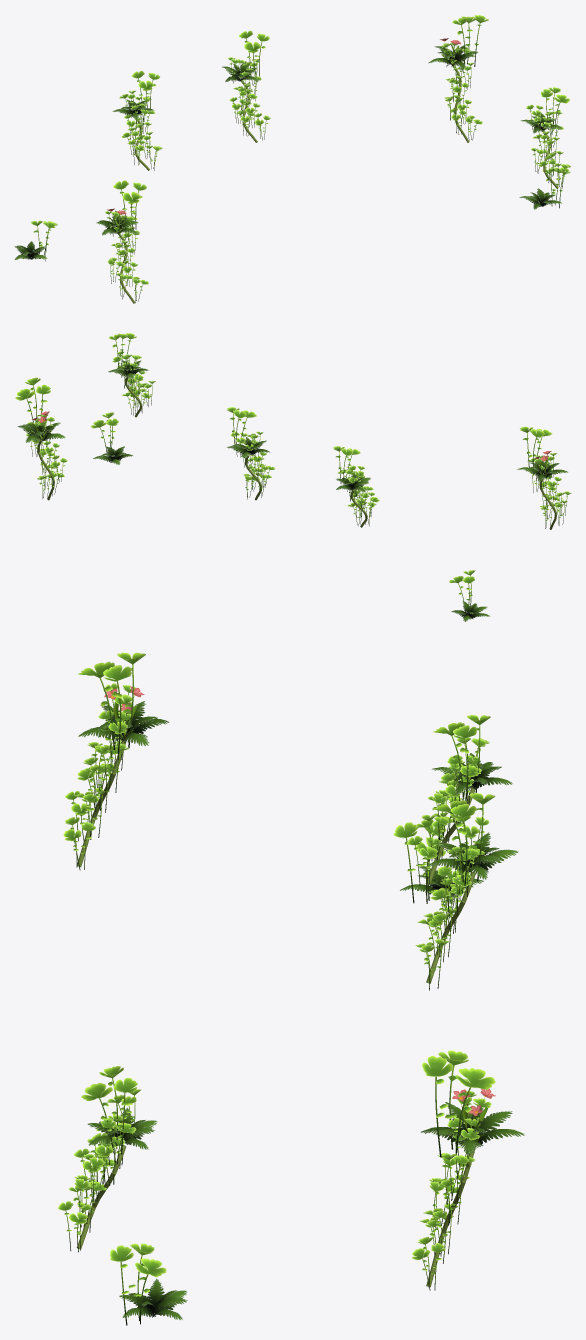
The model's file is Woodland_Wooden_Bridge_Greenery.glb.
The picture shows the model from 3 angles, top to bottom: view 1: azimuth 30°, elevation 25°; view 2: azimuth 150°, elevation 25°; view 3: azimuth 270°, elevation 25°; orthographic projection. The views are drawn at different scales.
Visible parts, largest first — view 1: Patch_00, Patch_03, Patch_02, Patch_06, Patch_05, Patch_08, Patch_07; view 2: Patch_03, Patch_00, Patch_02, Patch_06, Patch_05, Patch_07, Patch_08; view 3: Patch_03, Patch_00, Patch_06, Patch_02, Patch_05, Patch_08, Patch_07.
Boxes of the visible parts, bbox=[...] form: Patch_00: bbox=[96, 180, 148, 303]; Patch_03: bbox=[428, 15, 488, 142]; Patch_02: bbox=[222, 30, 270, 142]; Patch_06: bbox=[520, 87, 571, 188]; Patch_05: bbox=[112, 71, 162, 170]; Patch_08: bbox=[519, 167, 570, 209]; Patch_07: bbox=[14, 220, 57, 261]; Patch_03: bbox=[15, 377, 67, 500]; Patch_00: bbox=[517, 426, 571, 529]; Patch_02: bbox=[226, 407, 275, 500]; Patch_06: bbox=[108, 333, 155, 417]; Patch_05: bbox=[333, 446, 379, 527]; Patch_07: bbox=[449, 570, 490, 621]; Patch_08: bbox=[90, 412, 133, 464]; Patch_03: bbox=[412, 1050, 524, 1290]; Patch_00: bbox=[63, 652, 169, 870]; Patch_06: bbox=[58, 1066, 157, 1252]; Patch_02: bbox=[415, 793, 518, 990]; Patch_05: bbox=[407, 714, 512, 886]; Patch_08: bbox=[109, 1243, 187, 1325]; Patch_07: bbox=[393, 822, 484, 904].
Bounding box in the file's own units: 6.47 × 2.11 × 2.81.
5 materials, 4 textured.
